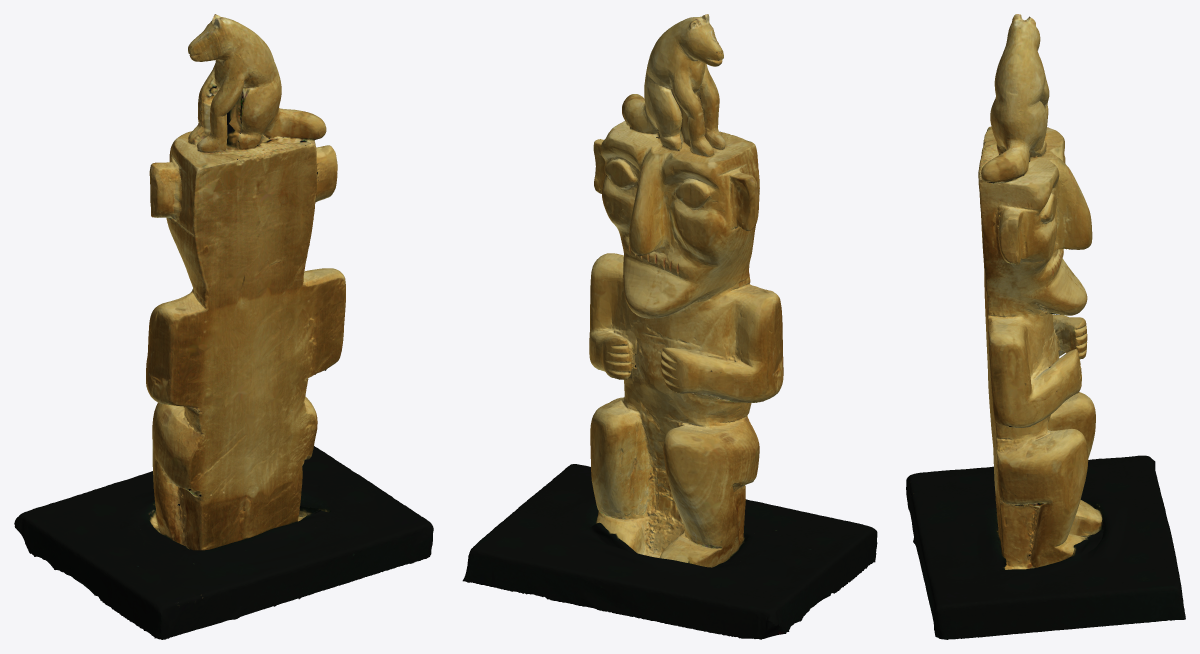
File: kittycarving.glb
3 renders of one model, left to right at view 1: azimuth 30°, elevation 25°; view 2: azimuth 150°, elevation 25°; view 3: azimuth 270°, elevation 25°, orthographic. The views are drawn at different scales.
Visible parts, largest first — view 1: 20230306KittyCarving_V1; view 2: 20230306KittyCarving_V1; view 3: 20230306KittyCarving_V1.
Part boxes in pixels (x1=…): 20230306KittyCarving_V1: x1=14, y1=14, x2=433, y2=639; 20230306KittyCarving_V1: x1=462, y1=14, x2=877, y2=639; 20230306KittyCarving_V1: x1=906, y1=14, x2=1185, y2=639.
Size of the model in its own units: 0.568 by 0.9667 by 0.4479.
1 material, 1 textured.
